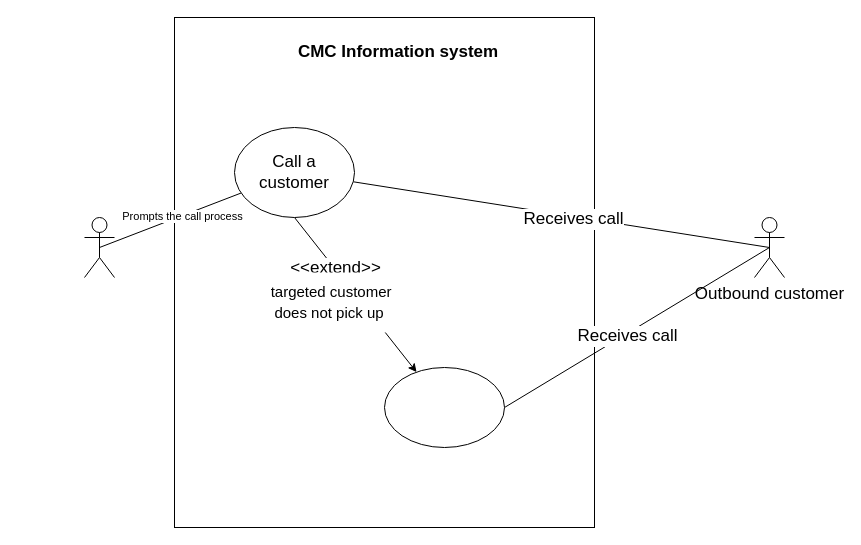
Image size: 861x545. Some labels were removed from this diagram. The centre of each missing label's shape, as x and y in pixels:
Dial another customer: (444,407)
Relationship manager: (99,247)
